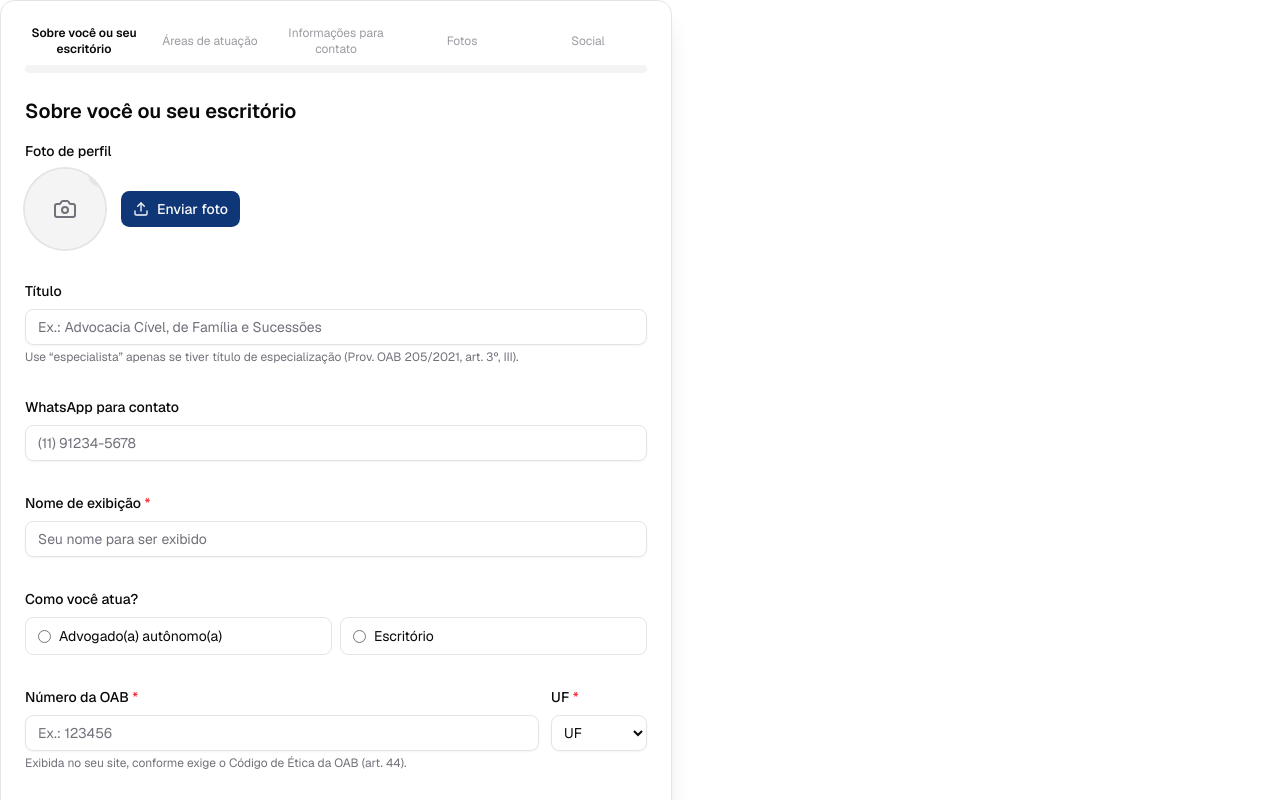
Test case: ProfileForm › step validation › blocks step 2 until at least one practice area is added
The image size is (1280, 800).
Step 1. Type "João Silva" into the field labelled "Nome de exibição *" → [336, 539], box [25, 521, 647, 557]
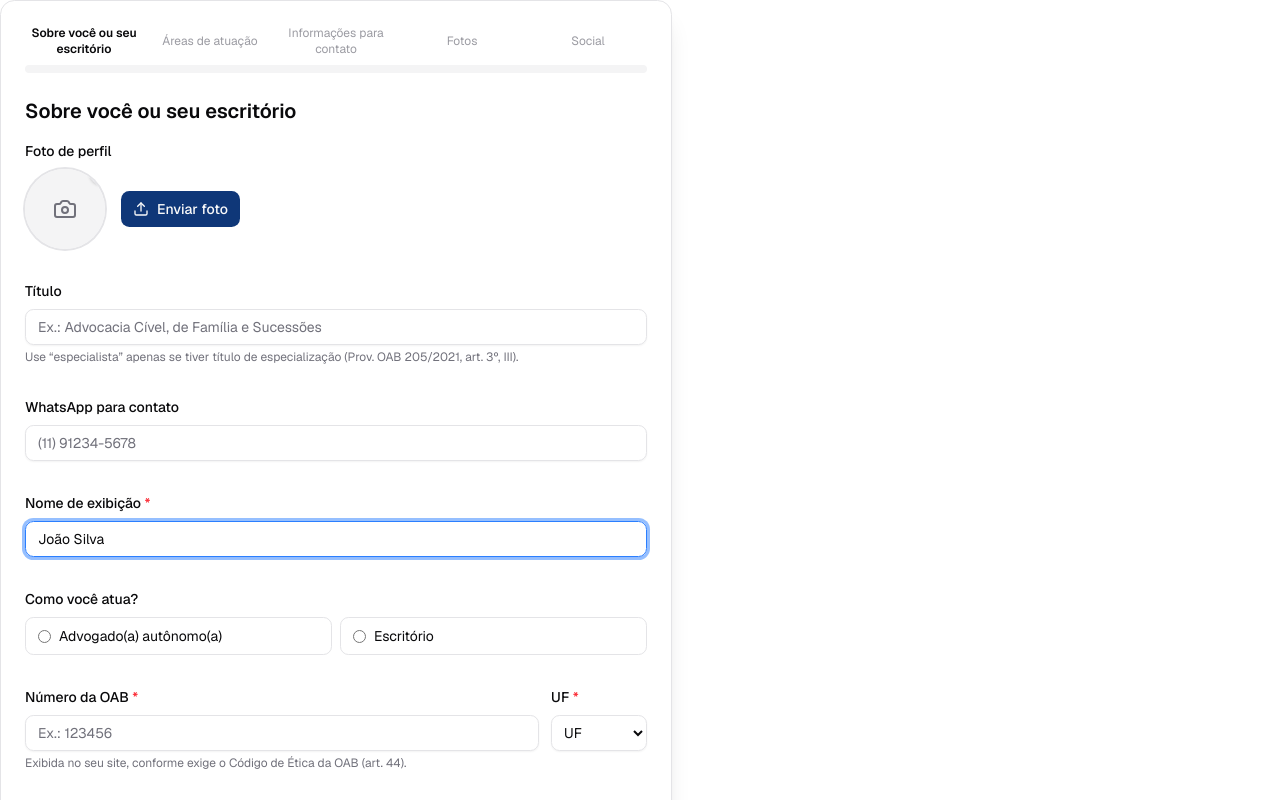
Step 2. Type "123.456-a" into the field labelled "Número da OAB *" → [282, 733], box [25, 715, 539, 751]
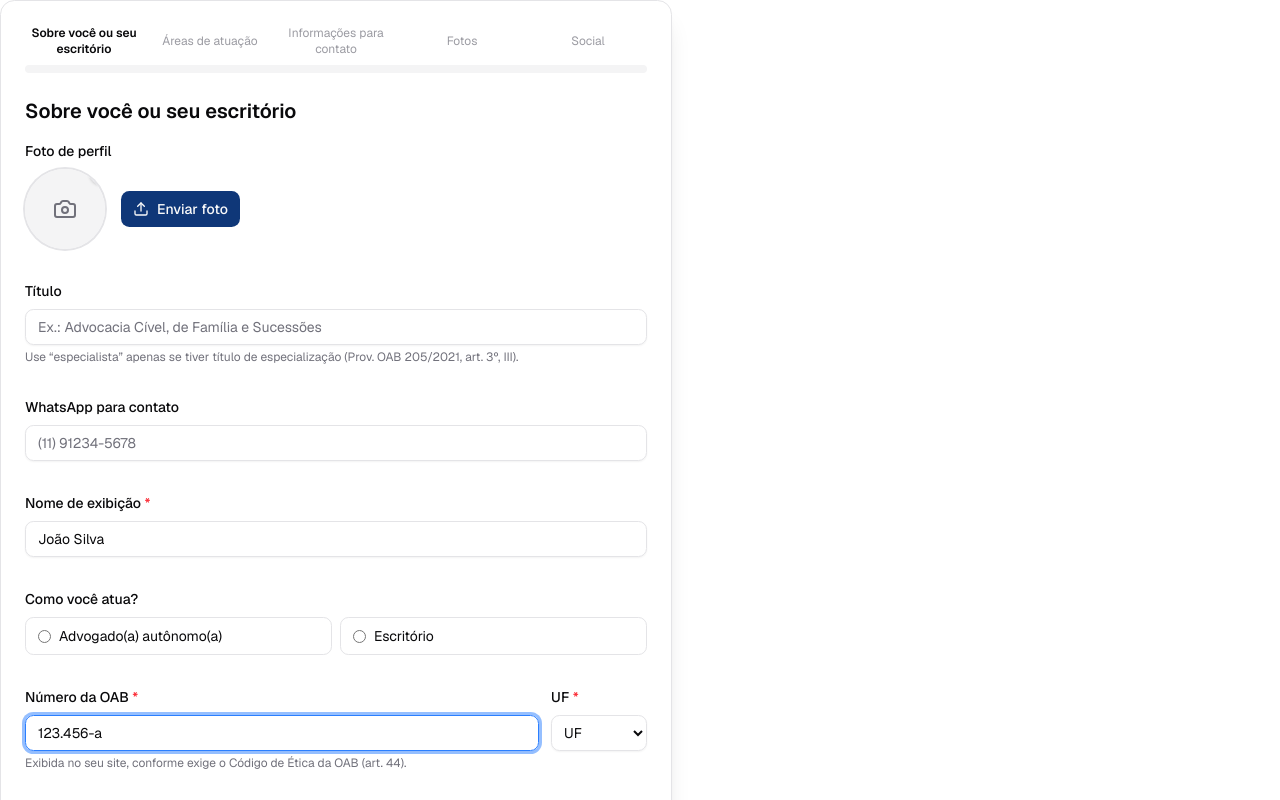
Step 3. Select "SP" in the dropdown labelled "UF *" → [599, 733], box [551, 715, 647, 751]
(page scrolled)
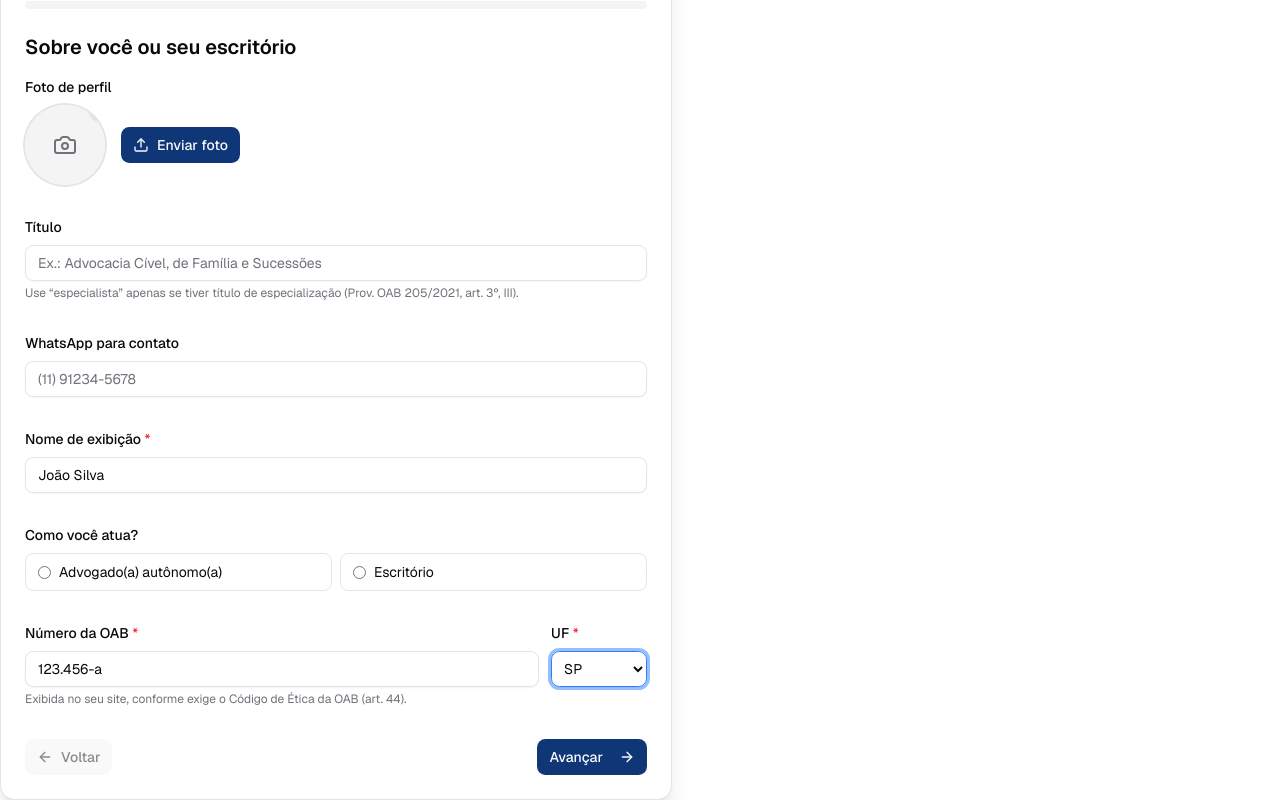
Step 4. Click the button "Avançar" → [592, 757], box [538, 739, 647, 775]
(page scrolled)
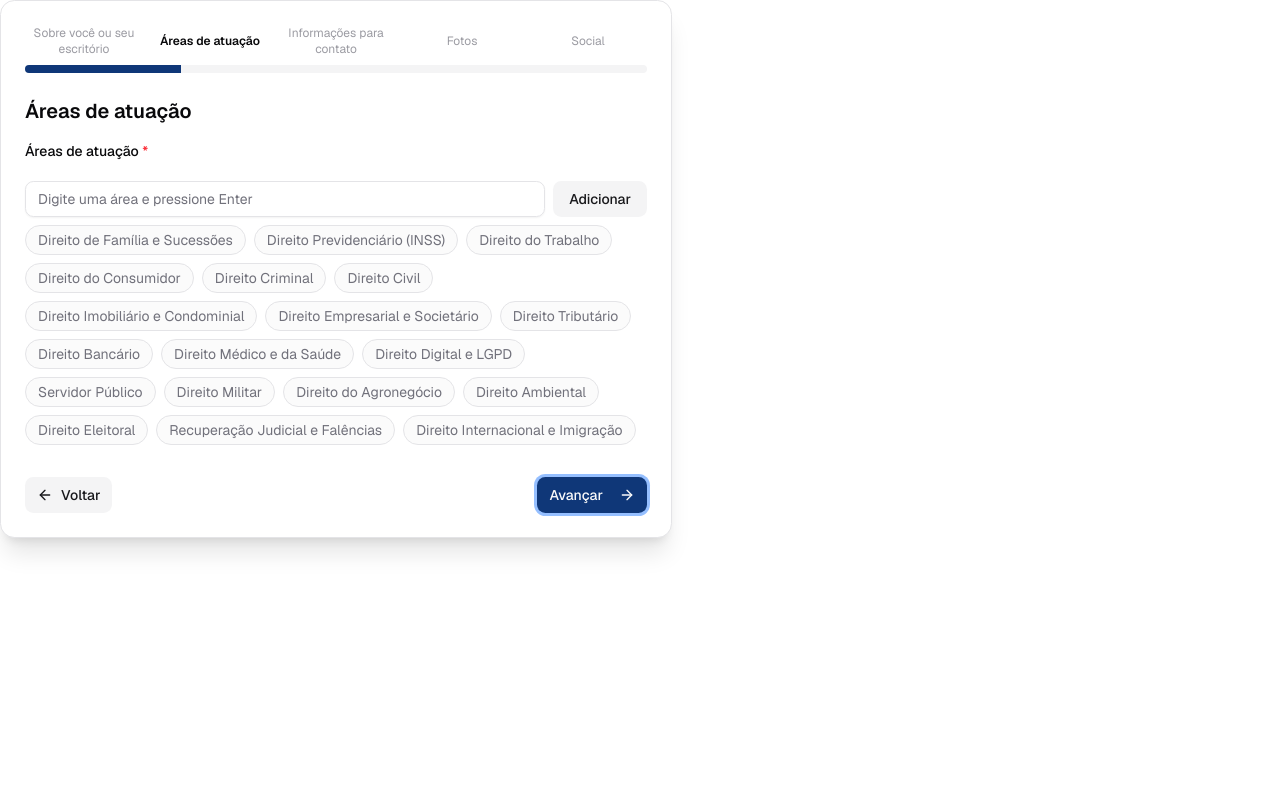
Expected: the heading "Áreas de atuação" is shown, [25, 98, 192, 124]
Step 5. Click the button "Avançar" → [592, 495], box [538, 477, 647, 513]
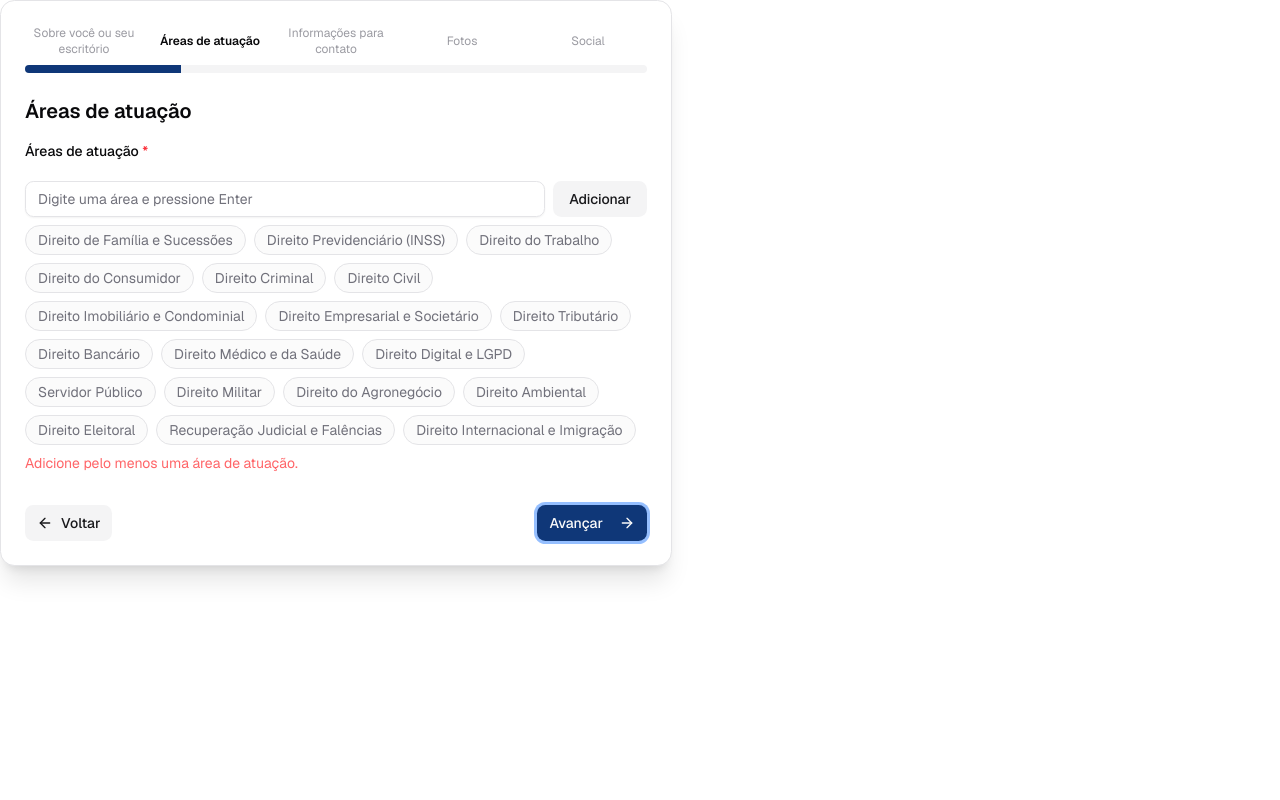
Expected: the heading "Áreas de atuação" is shown, [25, 98, 192, 124]
Expected: the text "Adicione pelo menos uma área de atuação." is shown, [25, 454, 298, 472]
